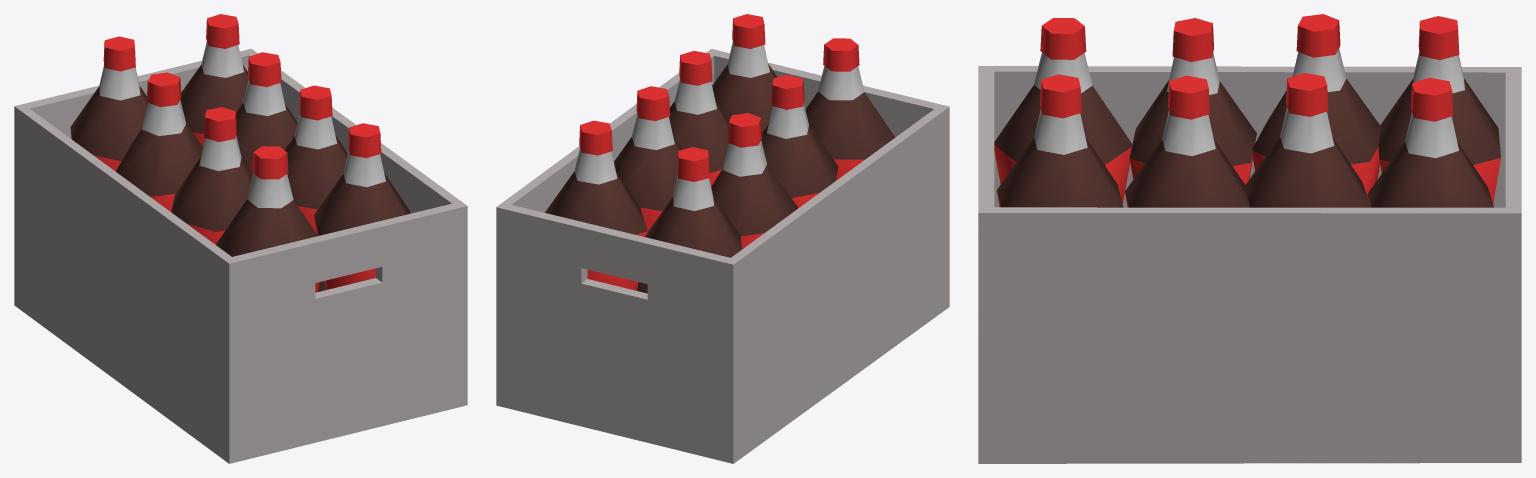
The model's file is warehouse_013.glb.
3 renders of one model, left to right at view 1: azimuth 30°, elevation 25°; view 2: azimuth 150°, elevation 25°; view 3: azimuth 270°, elevation 25°, orthographic. The views are drawn at different scales.
Parts seen in each view (by area): view 1: warehouse_013; view 2: warehouse_013; view 3: warehouse_013.
Boxes of the visible parts, x1,y1,x2,y2 form: warehouse_013: (14,14,467,463); warehouse_013: (496,14,949,463); warehouse_013: (978,14,1521,463).
Size of the model in its own units: 0.419 by 0.4511 by 0.6566.
1 material, 1 textured.
